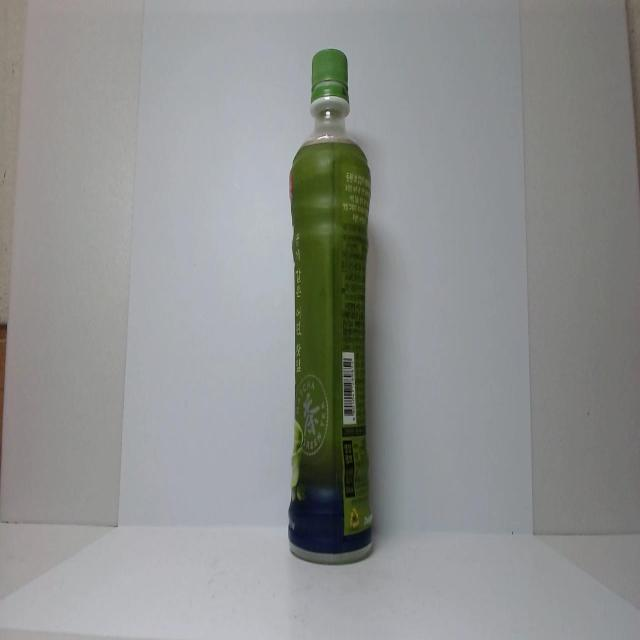bottle: (280, 35, 381, 571)
